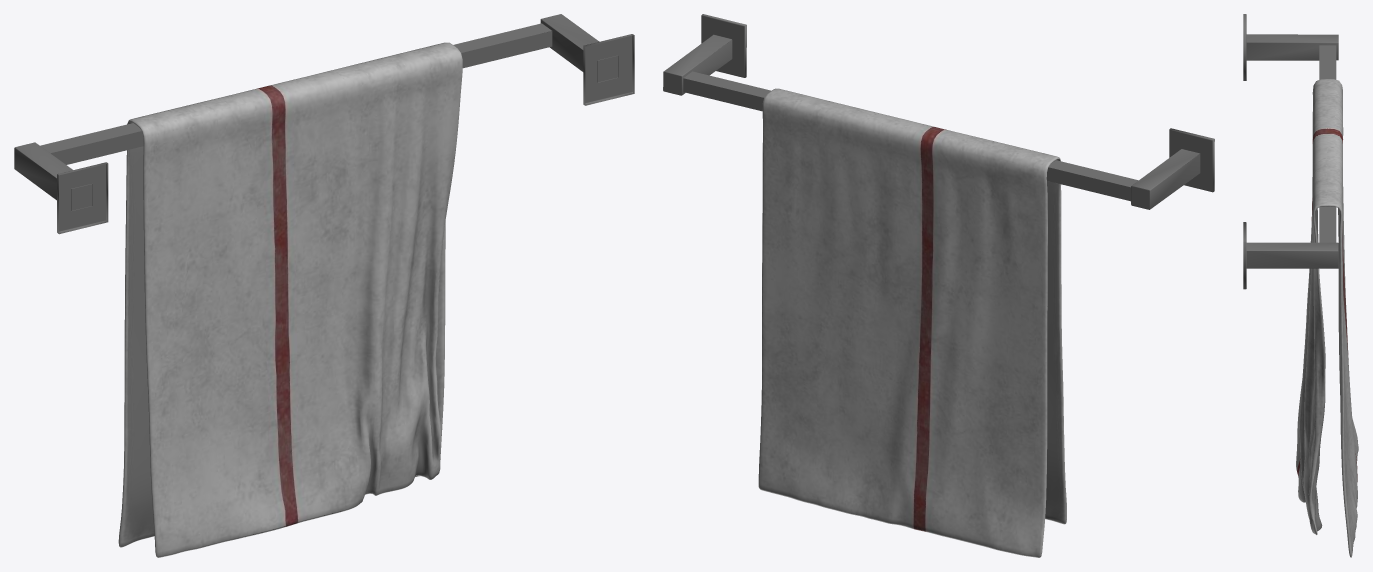
Rendered from towel-rail.glb.
The picture shows the model from 3 angles, left to right: view 1: azimuth 30°, elevation 25°; view 2: azimuth 150°, elevation 25°; view 3: azimuth 270°, elevation 25°; orthographic projection. The views are drawn at different scales.
Parts seen in each view (by area): view 1: Plane, Cube.001; view 2: Plane, Cube.001; view 3: Plane, Cube.001.
Part boxes in pixels (x1,y1,x2,y2): Plane: (118,42,462,557); Cube.001: (14,14,634,234); Plane: (758,88,1066,557); Cube.001: (663,14,1214,209); Plane: (1296,79,1358,557); Cube.001: (1243,14,1338,289).
Size of the model in its own units: 0.9279 by 0.7 by 0.1988.
2 materials, 2 textured.
